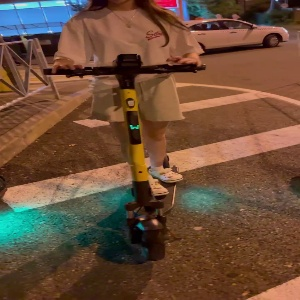human on a scooter: (43, 1, 209, 262)
